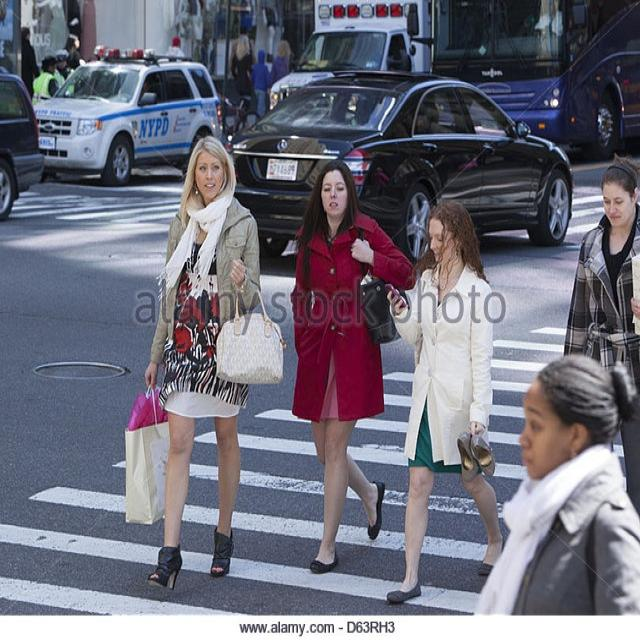body: (124, 131, 285, 601), (288, 150, 420, 579), (382, 189, 510, 608), (460, 346, 639, 639), (560, 152, 640, 515), (31, 54, 68, 185), (230, 33, 255, 140), (247, 48, 272, 121), (20, 26, 42, 101), (268, 39, 294, 89), (52, 49, 78, 97), (64, 33, 88, 71)
